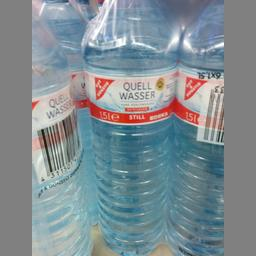water: (78, 0, 180, 255), (32, 1, 91, 255), (169, 0, 222, 255)
